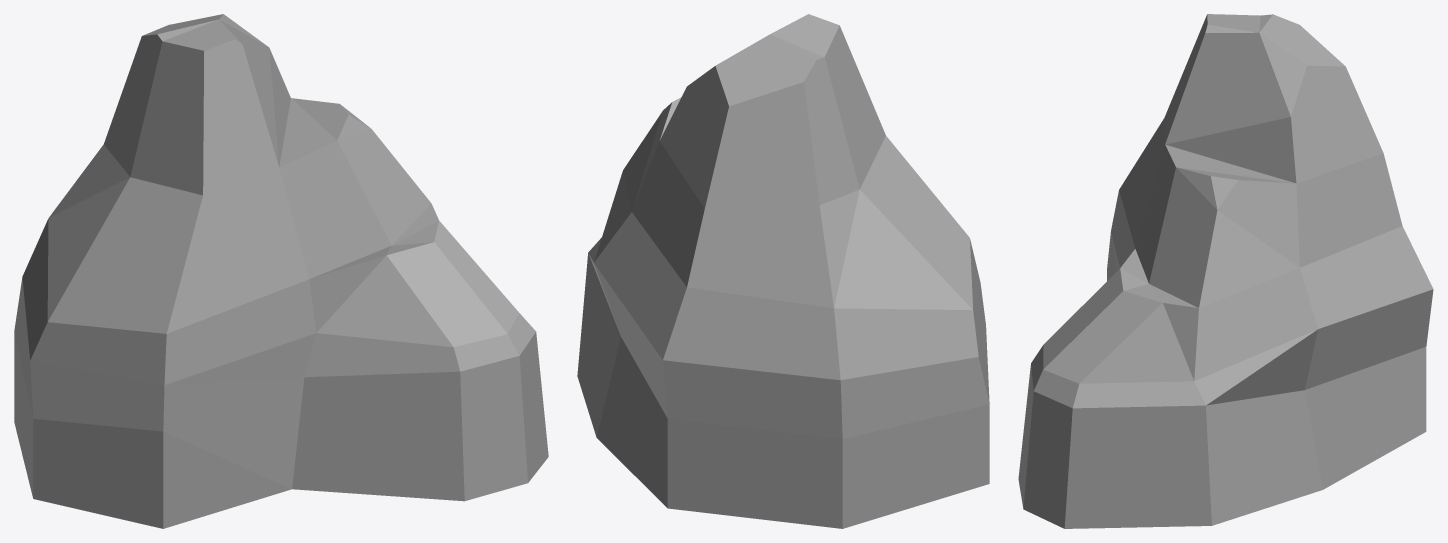
The model's file is Rock_Round_l_03.fbx.
3 views of the same model, side by side, from view 1: azimuth 30°, elevation 25°; view 2: azimuth 150°, elevation 25°; view 3: azimuth 270°, elevation 25° (orthographic). The views are drawn at different scales.
Parts seen in each view (by area): view 1: Rock_Round_l_03; view 2: Rock_Round_l_03; view 3: Rock_Round_l_03.
Part boxes in pixels (<box>): Rock_Round_l_03: <box>14,14,548,528</box>; Rock_Round_l_03: <box>577,14,989,528</box>; Rock_Round_l_03: <box>1018,14,1433,528</box>.
Bounding box in the file's own units: 240 × 224 × 213.
